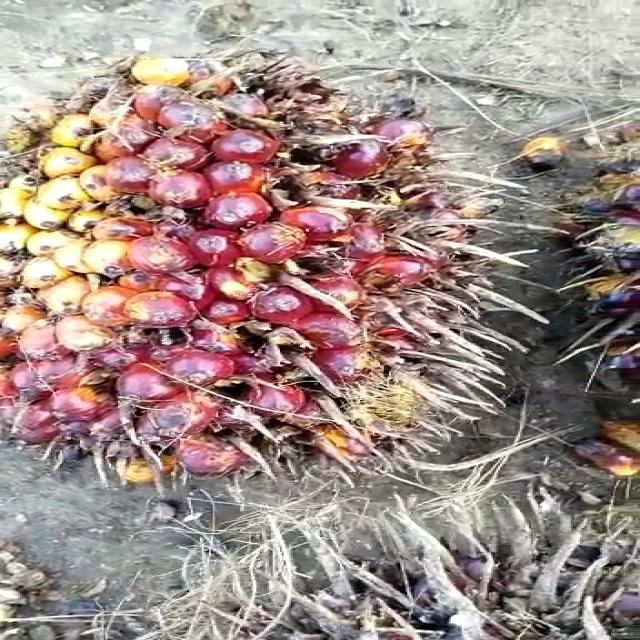palm oil: (0, 62, 511, 507)
